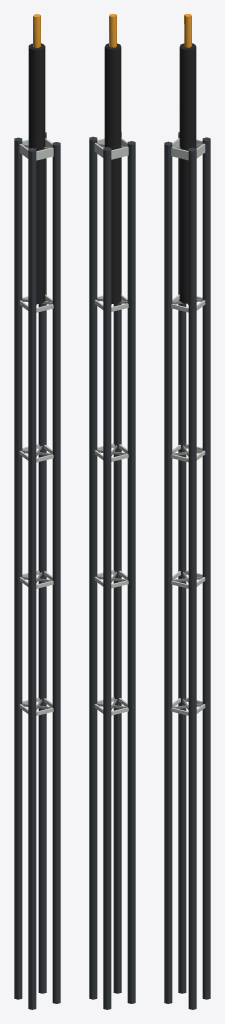
Rendered from ElectricTower_01.glb.
3 renders of one model, left to right at view 1: azimuth 30°, elevation 25°; view 2: azimuth 210°, elevation 25°; view 3: azimuth 330°, elevation 25°, orthographic.
Visible parts, largest first — view 1: ElectricTower_01; view 2: ElectricTower_01; view 3: ElectricTower_01.
Part boxes in pixels (left/top/right/bottom): ElectricTower_01: left=14, top=14, right=60, bottom=1009; ElectricTower_01: left=89, top=14, right=135, bottom=1009; ElectricTower_01: left=164, top=14, right=210, bottom=1009.
Size of what is drawn, in the model's own units: 0.1666 by 4.84 by 0.1611.
Materials: 1 (1 with a texture image).
